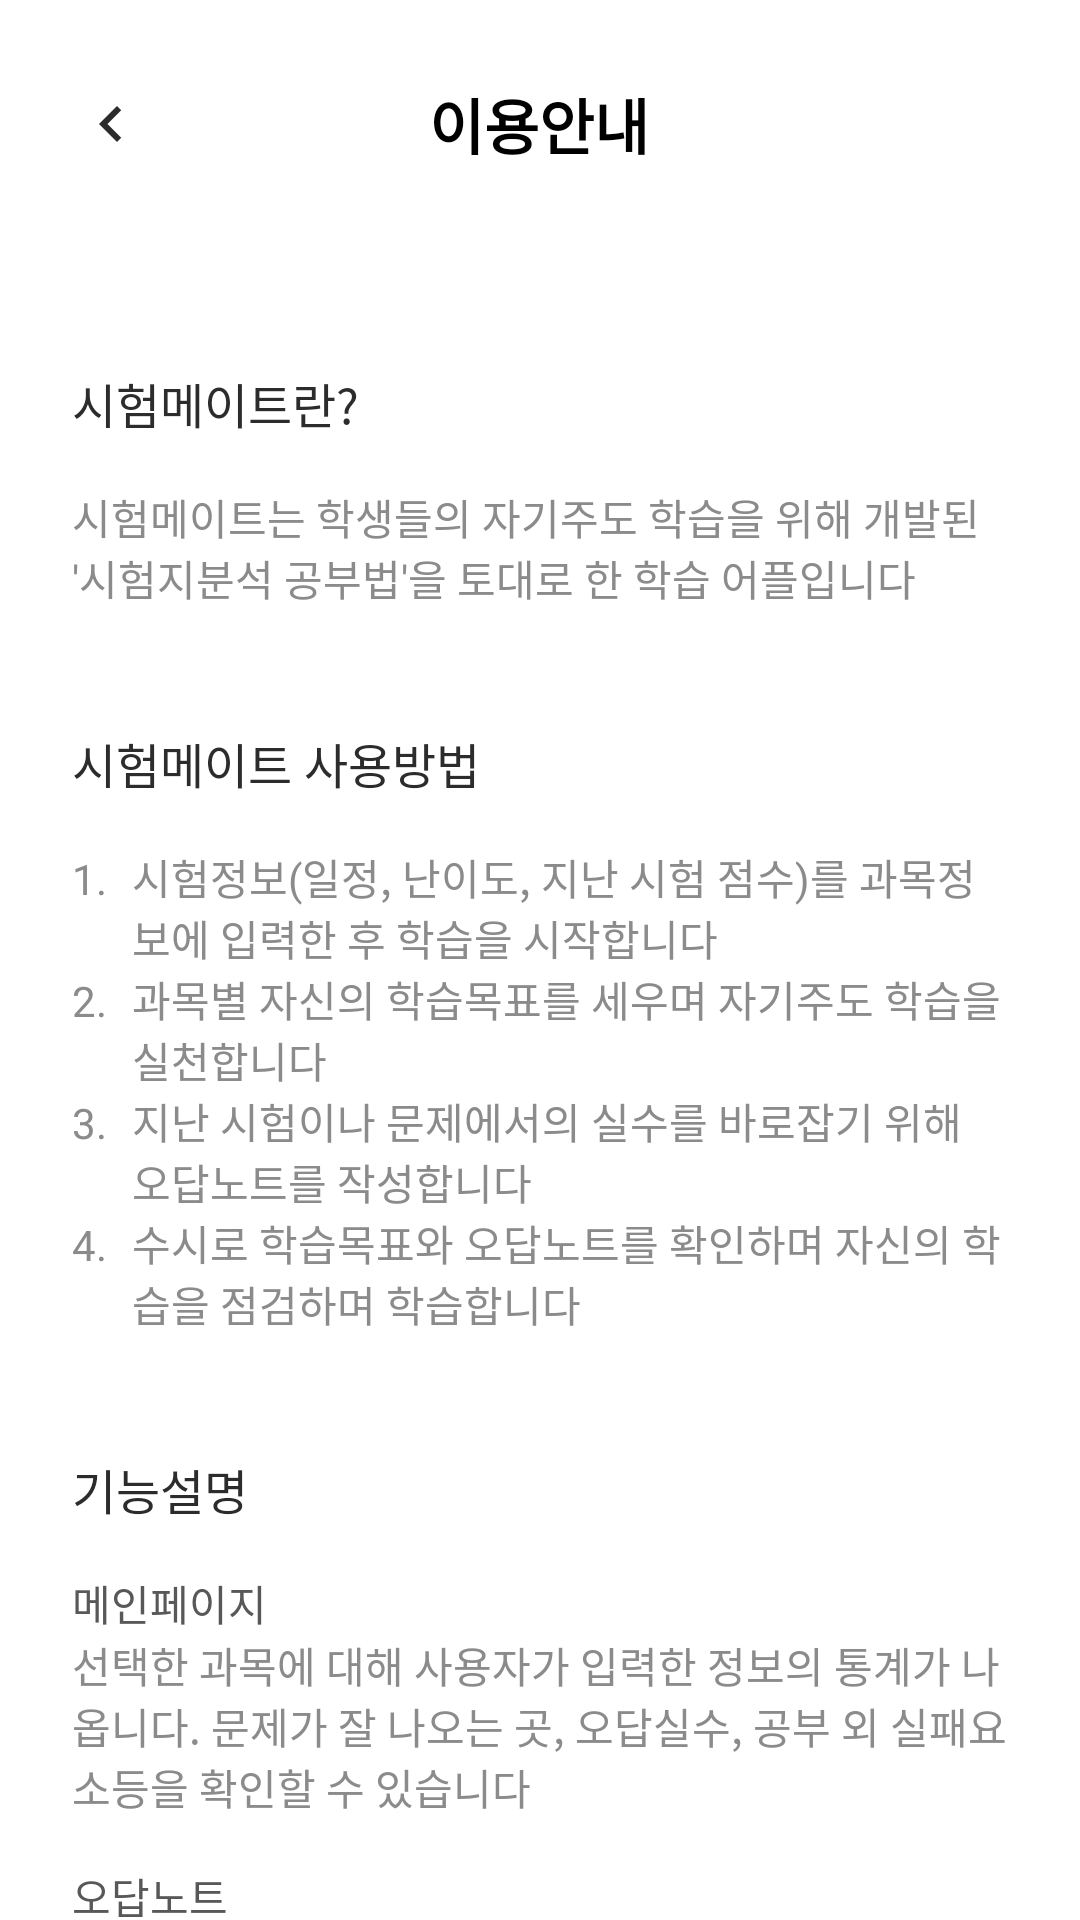

Point at icon controls on the screen. Image size 1080 × 1920, points as (x,y).
before: (110,124)
